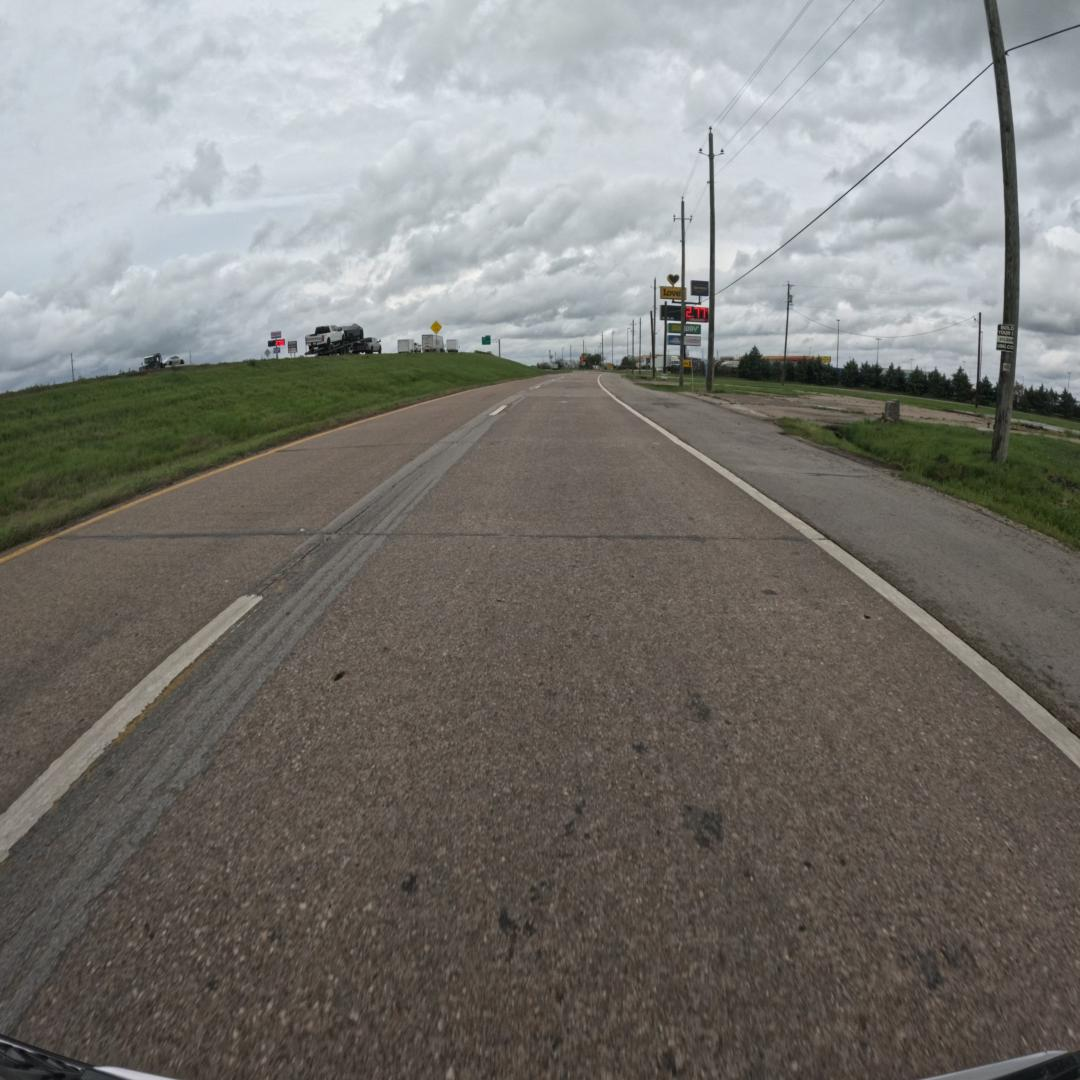lane0: (0, 374, 1080, 1077)
lane1: (0, 378, 542, 811)
